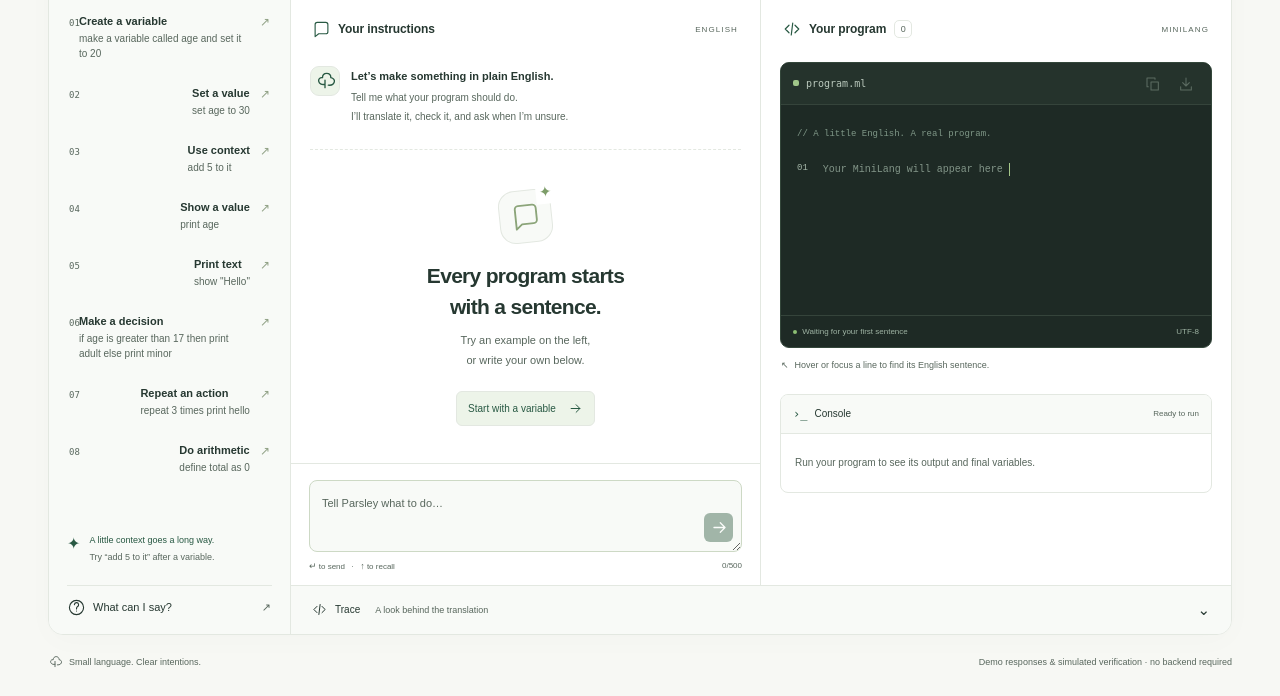
shows a budget banner and a non-blocking W515 warning
(page scrolled)
Step 1. Type "set age to 20" into the text box named "English sentence" → coordinates (526, 516), box 309,480 -> 742,552
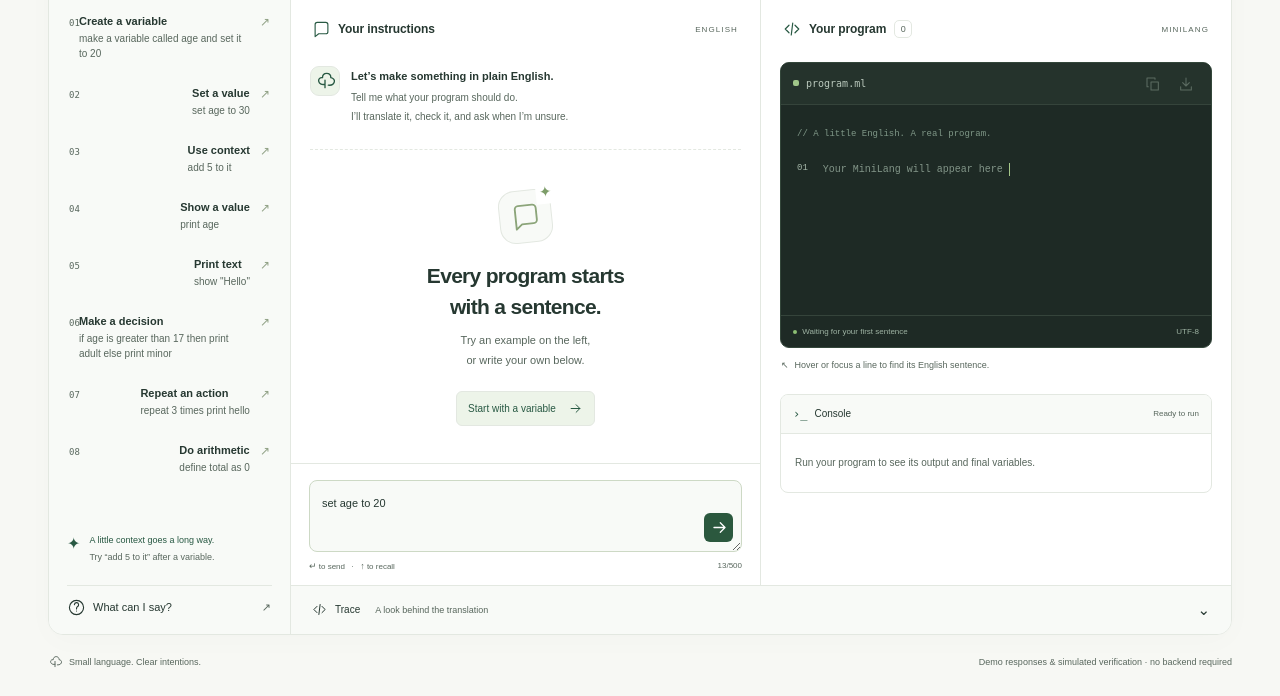
Step 2. Press Enter in the text box named "English sentence", box 309,480 -> 742,552
(page scrolled)
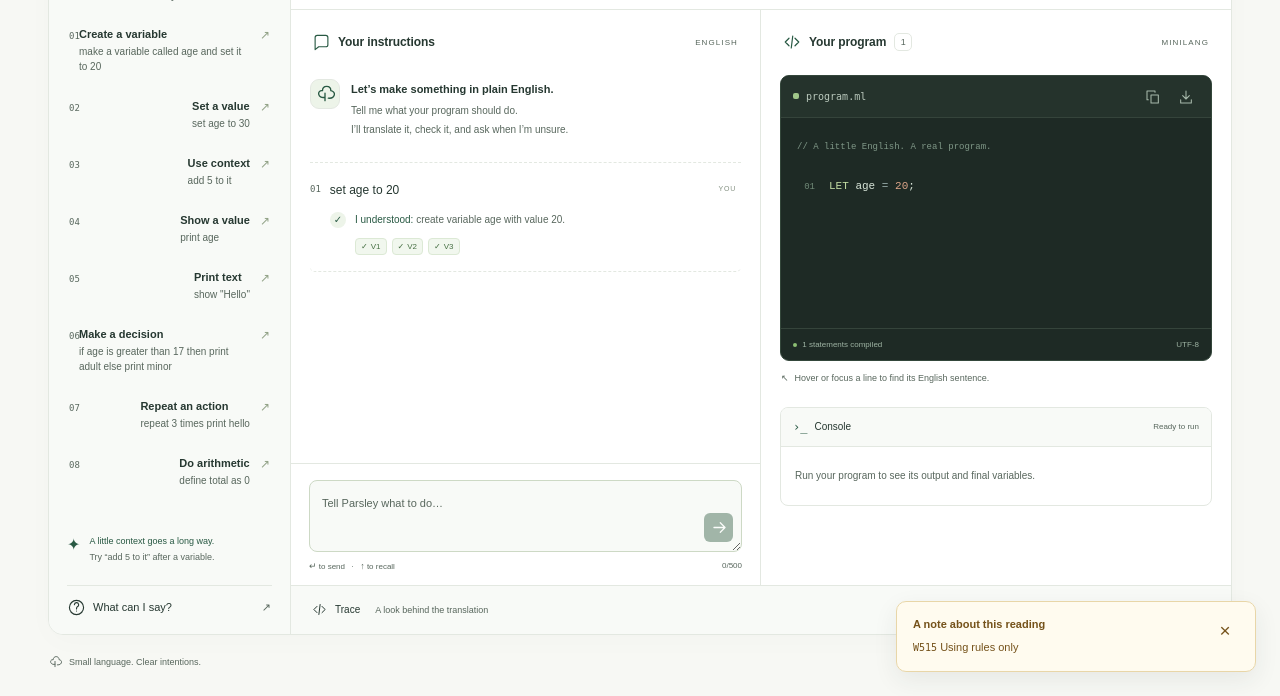
Expected: the text "W515" is shown, 913,642 -> 937,653
